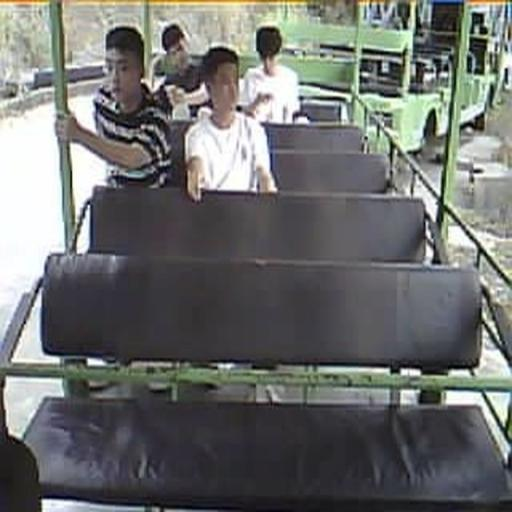persona: (55, 24, 177, 191), (184, 45, 278, 202), (238, 24, 300, 124), (151, 22, 211, 118)
